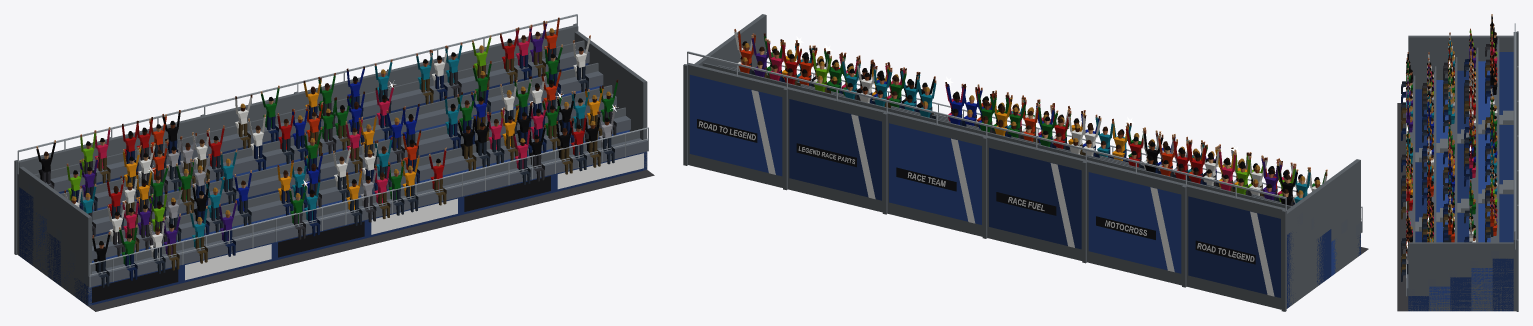
The model's file is stand.glb.
The picture shows the model from 3 angles, left to right: view 1: azimuth 30°, elevation 25°; view 2: azimuth 150°, elevation 25°; view 3: azimuth 270°, elevation 25°; orthographic projection. The views are drawn at different scales.
Visible parts, largest first — view 1: Stand, Standing.002, Standing.000, Standing.001, Standing.003, Standing.004, Standing.005, Seated.000, Seated.002, Seated.001, Seated.004, Seated.005 (+1 smaller); view 2: Stand, Standing.004, Standing.003, Standing.002, Standing.005, Standing.001, Standing.000, Seated.004, Seated.003, Seated.005, Seated.002, Seated.001; view 3: Stand, Seated.000, Seated.001, Standing.000, Seated.003, Seated.004, Seated.002, Standing.001, Standing.002, Seated.005, Standing.003, Standing.005 (+3 smaller).
Part boxes in pixels (x1,y1,x2,y2): Stand: (14,14,654,311); Standing.002: (445,69,618,171); Standing.000: (79,149,251,274); Standing.001: (277,103,446,212); Standing.003: (36,110,224,202); Standing.004: (235,59,392,159); Standing.005: (416,17,590,103); Seated.000: (88,176,251,287); Seated.002: (445,97,616,184); Seated.001: (278,132,446,225); Seated.004: (235,87,391,170); Seated.005: (418,46,588,115); Stand: (683,14,1368,311); Standing.004: (917,76,1101,156); Standing.003: (1125,126,1298,205); Standing.002: (764,33,935,111); Standing.005: (734,29,892,106); Standing.001: (948,83,1129,161); Standing.000: (1147,130,1327,198); Seated.004: (919,101,1099,157); Seated.003: (1128,151,1294,205); Seated.005: (738,56,890,108); Seated.002: (767,63,933,114); Seated.001: (950,109,1128,162); Stand: (1397,23,1518,311); Seated.000: (1401,56,1454,142); Seated.001: (1401,133,1454,219); Standing.000: (1406,38,1452,132); Seated.003: (1464,32,1497,123); Seated.004: (1464,105,1497,181); Seated.002: (1401,192,1454,273); Standing.001: (1406,116,1452,211); Standing.002: (1406,173,1452,258); Seated.005: (1464,173,1497,242); Standing.003: (1469,14,1494,106); Standing.005: (1469,155,1494,242).
Bounding box in the file's own units: 24.02 × 4.94 × 5.89.
12 materials, 2 textured.
